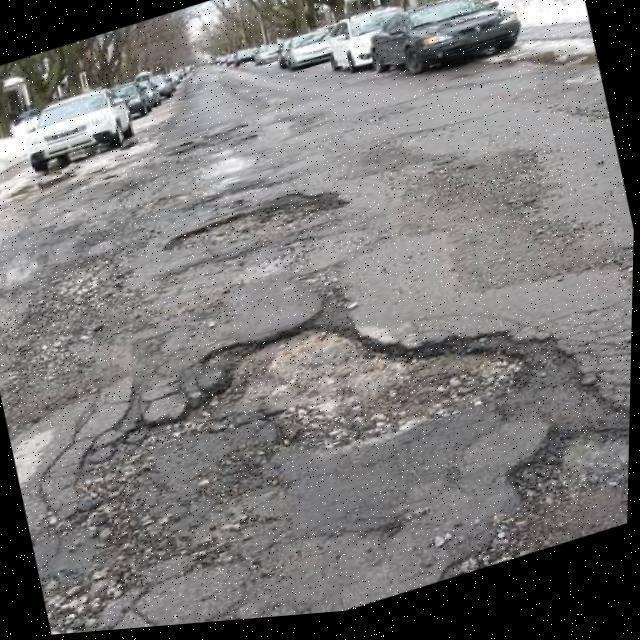Pothole: (25, 279, 623, 634), (158, 190, 353, 252)
